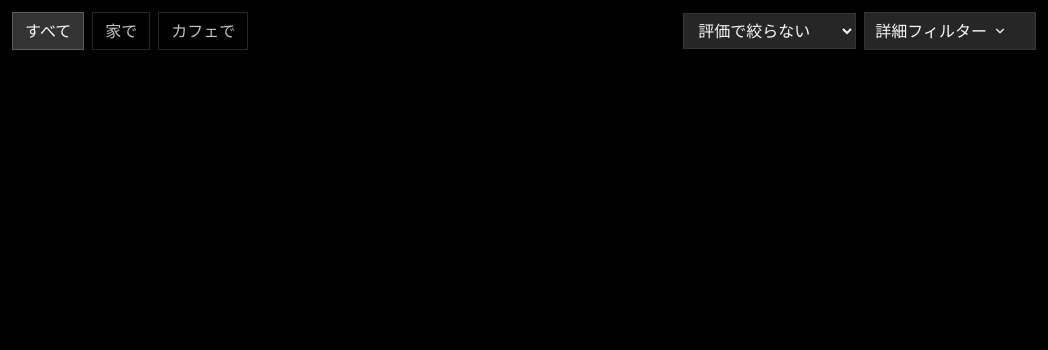
RecordFilters › 詳細フィルターは初期状態で閉じており、クリックで開閉できる
Expected: the checkbox labelled "Ethiopia" is not shown
Click the button "詳細フィルター" at (950, 31), box x1=864 y1=12 x2=1036 y2=50
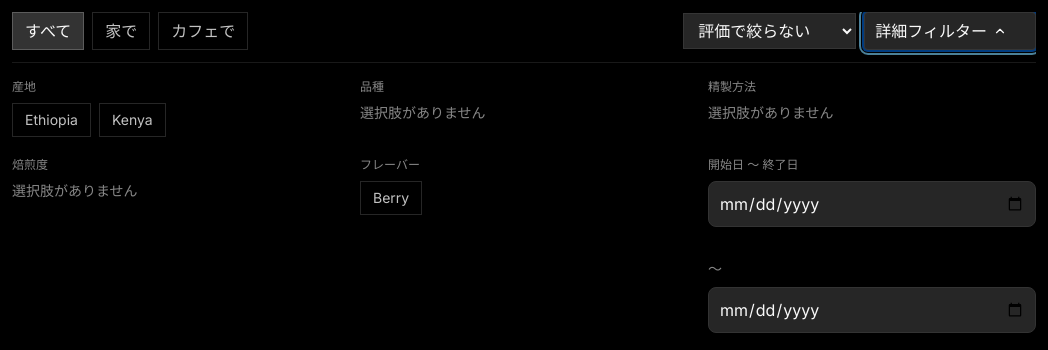
Expected: the button "詳細フィルター" is expanded, x1=864 y1=12 x2=1036 y2=50
Expected: the checkbox labelled "Ethiopia" is shown, x1=12 y1=103 x2=91 y2=137
